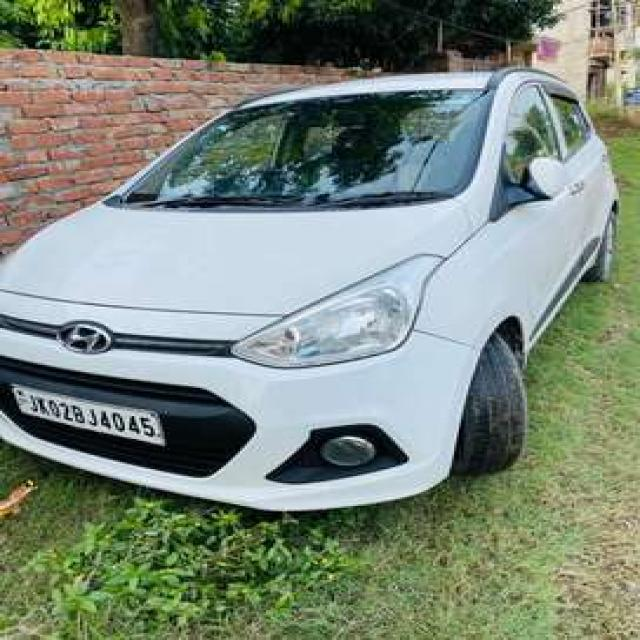Plate: (6, 382, 163, 442)
